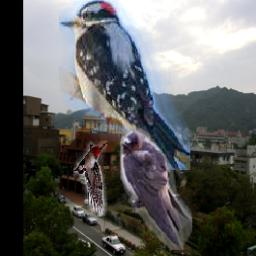Swallow: (119, 129, 193, 251)
Woodpecker: (59, 0, 190, 171), (74, 142, 108, 218)
